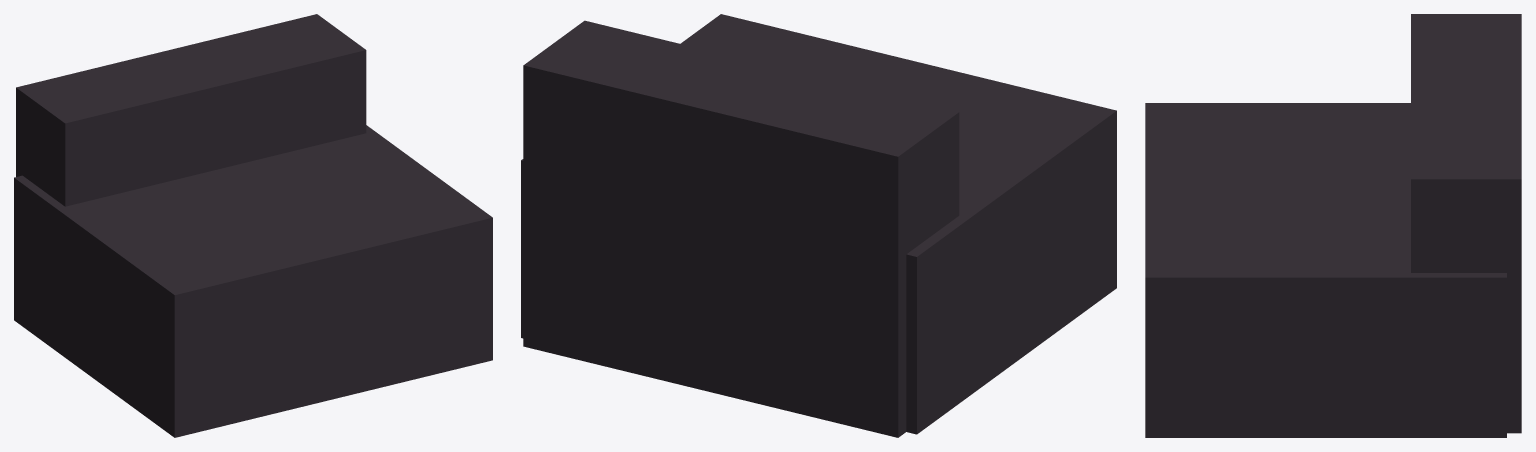
File: chr_hair_02.glb
The picture shows the model from 3 angles, left to right: view 1: azimuth 30°, elevation 25°; view 2: azimuth 150°, elevation 25°; view 3: azimuth 270°, elevation 25°; orthographic projection. The views are drawn at different scales.
Visible parts, largest first — view 1: chr_hair_02; view 2: chr_hair_02; view 3: chr_hair_02.
Part boxes in pixels (box(x1,y1,x2,y2)): chr_hair_02: box(14, 14, 492, 437); chr_hair_02: box(521, 14, 1116, 437); chr_hair_02: box(1145, 14, 1521, 437).
Bounding box in the file's own units: 0.56 × 0.38 × 0.51.
1 material, 1 textured.
